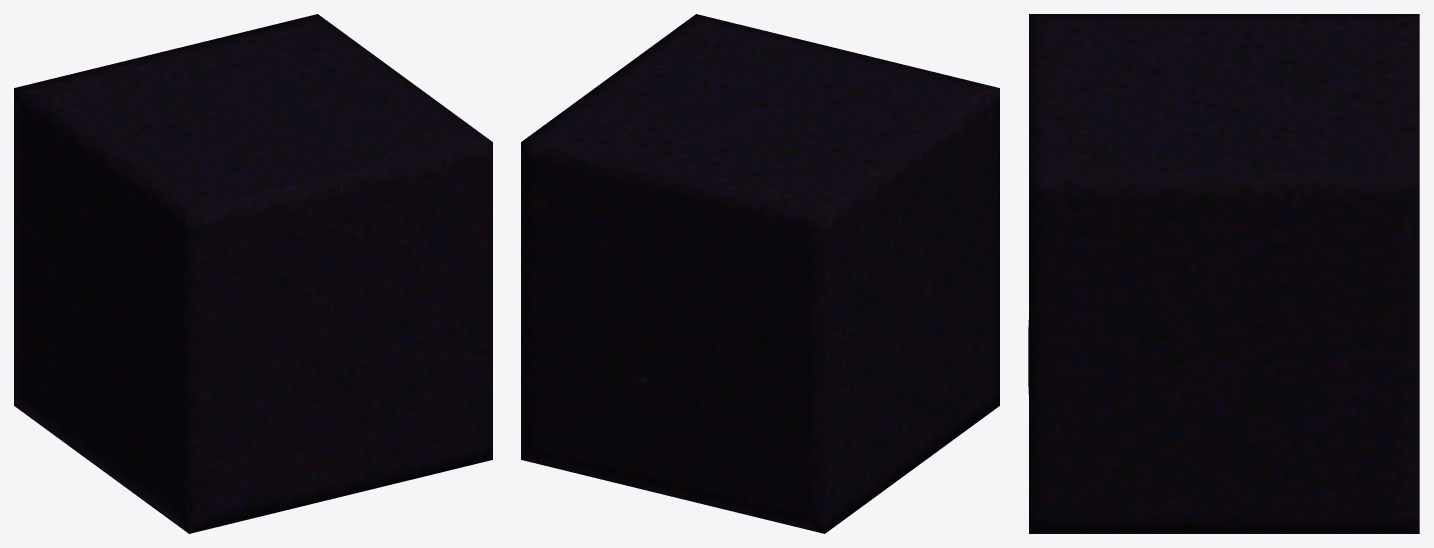
3 views of the same model, side by side, from view 1: azimuth 30°, elevation 25°; view 2: azimuth 150°, elevation 25°; view 3: azimuth 270°, elevation 25° (orthographic). The views are drawn at different scales.
Parts seen in each view (by area): view 1: tripo_node_e08b7637-5564-491b-bfce-a9c0229815cd; view 2: tripo_node_e08b7637-5564-491b-bfce-a9c0229815cd; view 3: tripo_node_e08b7637-5564-491b-bfce-a9c0229815cd.
Part boxes in pixels (x1=…): tripo_node_e08b7637-5564-491b-bfce-a9c0229815cd: x1=14, y1=14, x2=492, y2=533; tripo_node_e08b7637-5564-491b-bfce-a9c0229815cd: x1=521, y1=14, x2=999, y2=533; tripo_node_e08b7637-5564-491b-bfce-a9c0229815cd: x1=1028, y1=14, x2=1419, y2=533.
Bounding box in the file's own units: 0.998 × 0.998 × 0.998.
1 material, 1 textured.
